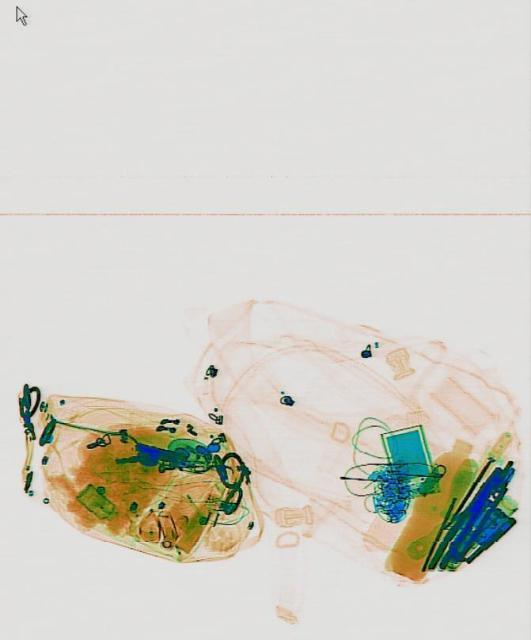Pliers: (422, 462, 507, 578)
